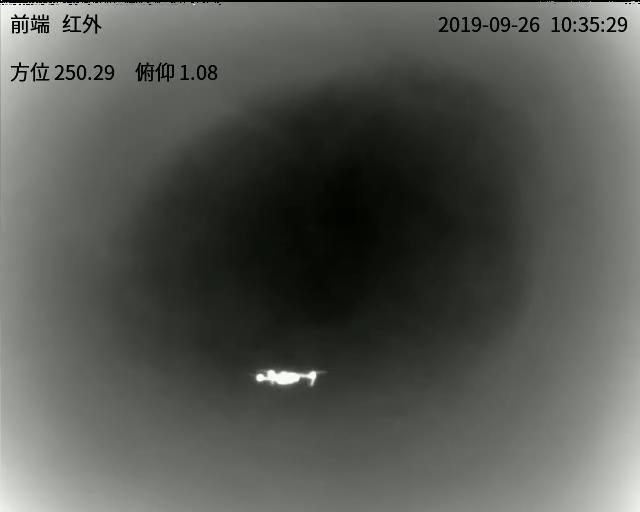uav: (248, 362, 327, 390)
